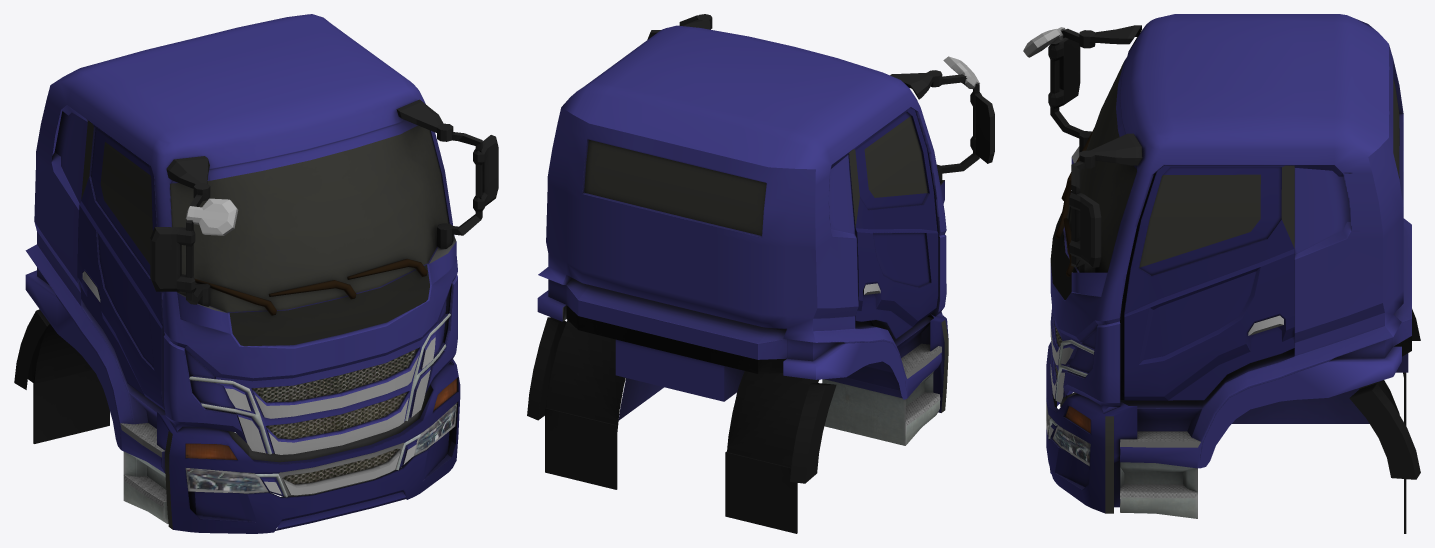
Rendered from truckhead1.fbx.
3 views of the same model, side by side, from view 1: azimuth 30°, elevation 25°; view 2: azimuth 150°, elevation 25°; view 3: azimuth 270°, elevation 25° (orthographic). The views are drawn at different scales.
Parts seen in each view (by area): view 1: bodytrk, lights; view 2: bodytrk, lights; view 3: bodytrk, lights.
Boxes of the visible parts, x1,y1,x2,y2 form: bodytrk: [14, 14, 460, 533]; lights: [81, 99, 498, 529]; bodytrk: [527, 25, 948, 533]; lights: [584, 14, 994, 425]; bodytrk: [1046, 14, 1420, 533]; lights: [1023, 25, 1399, 513].
Bounding box in the file's own units: 199 × 211 × 189.
